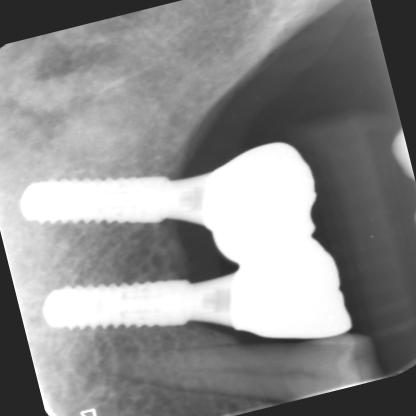ITI: (10, 147, 178, 262), (31, 250, 201, 362)
